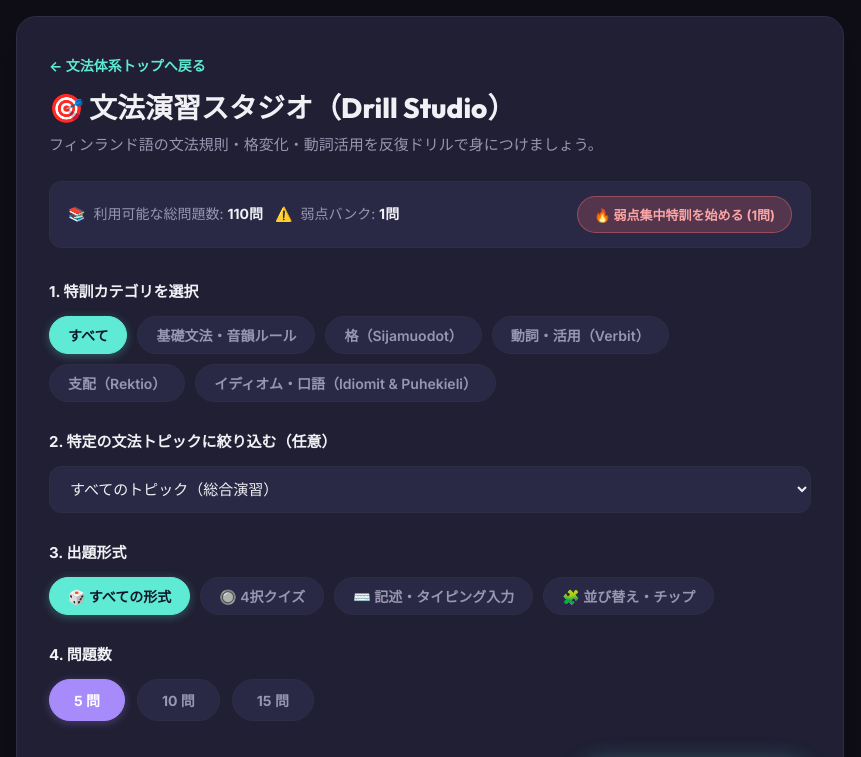
Test: GrammarPractice Component › allows starting a review session if mistakes exist in localStorage
Step 1. Click the button "🔥 弱点集中特訓を始める (1問)" → (685, 214), box [577,196,792,233]
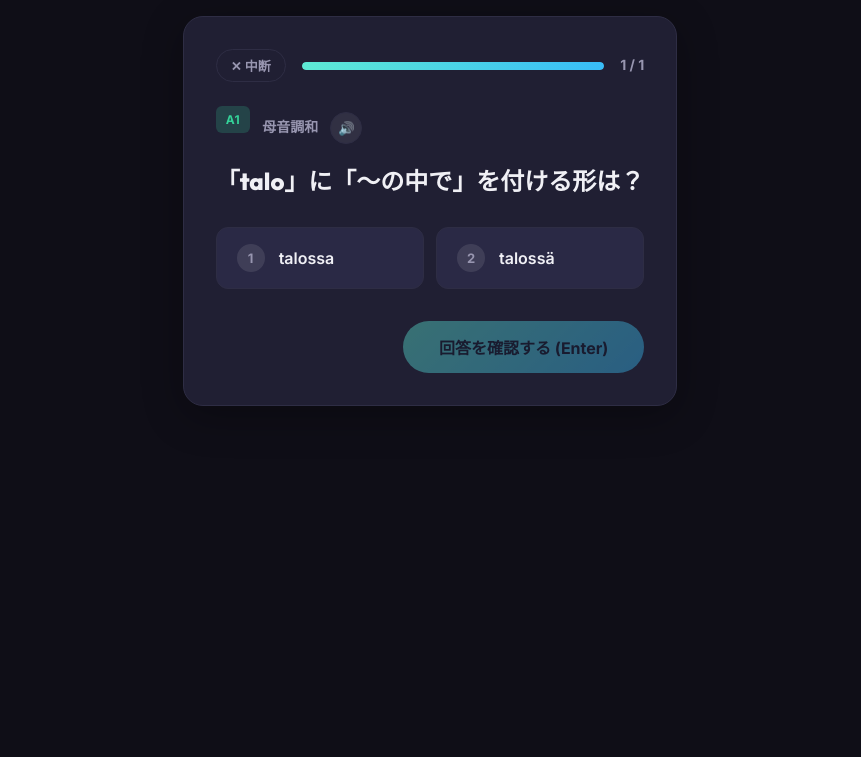
Result: the heading "「talo」に「〜の中で」を付ける形は？" is shown at [216,165,644,199]
